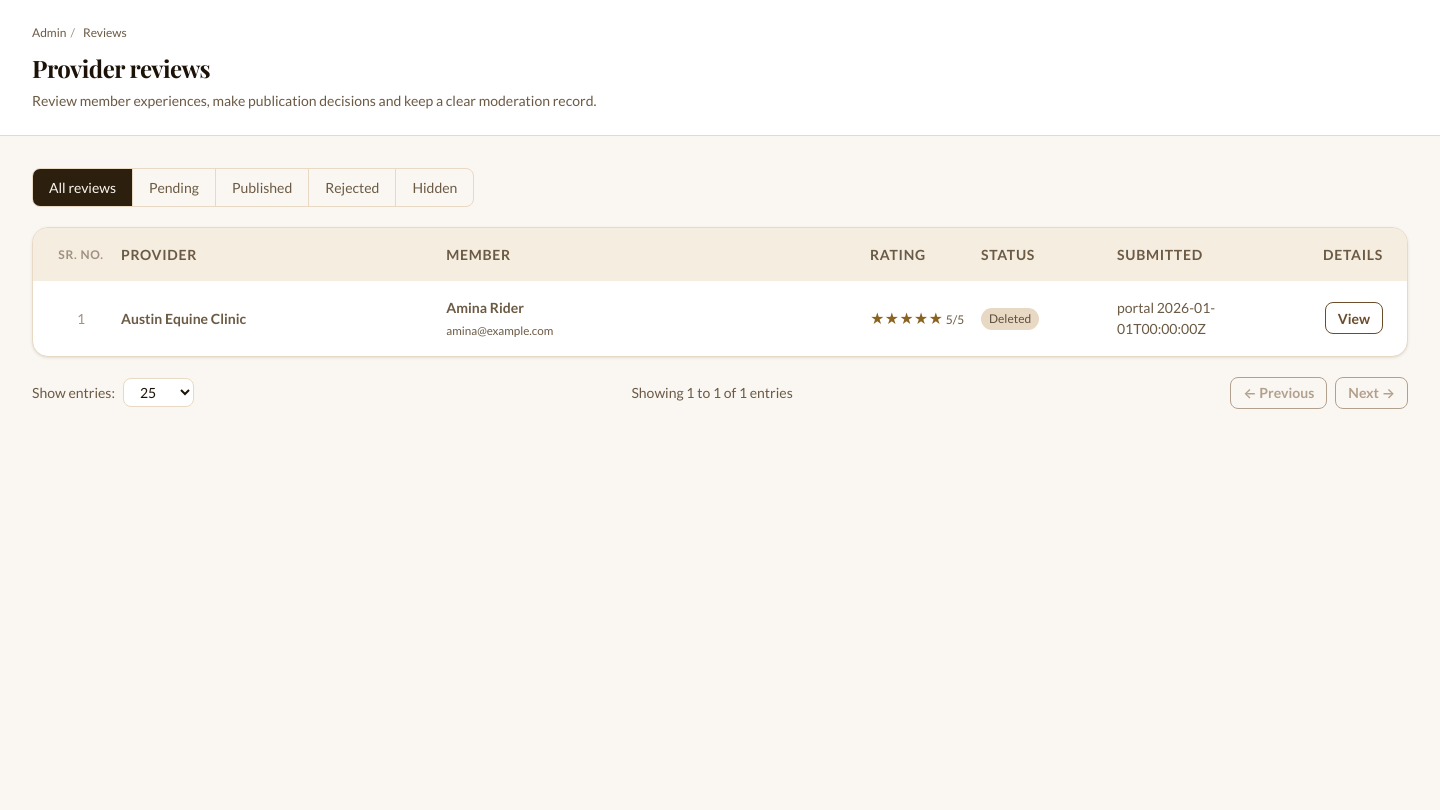
Scenario: ReviewsPage › shows retained deleted records without offering moderation actions
Expected: the text "Deleted" is shown, [981,308,1039,330]
Click the button "View" at (1354, 318), box [1325,302,1383,334]
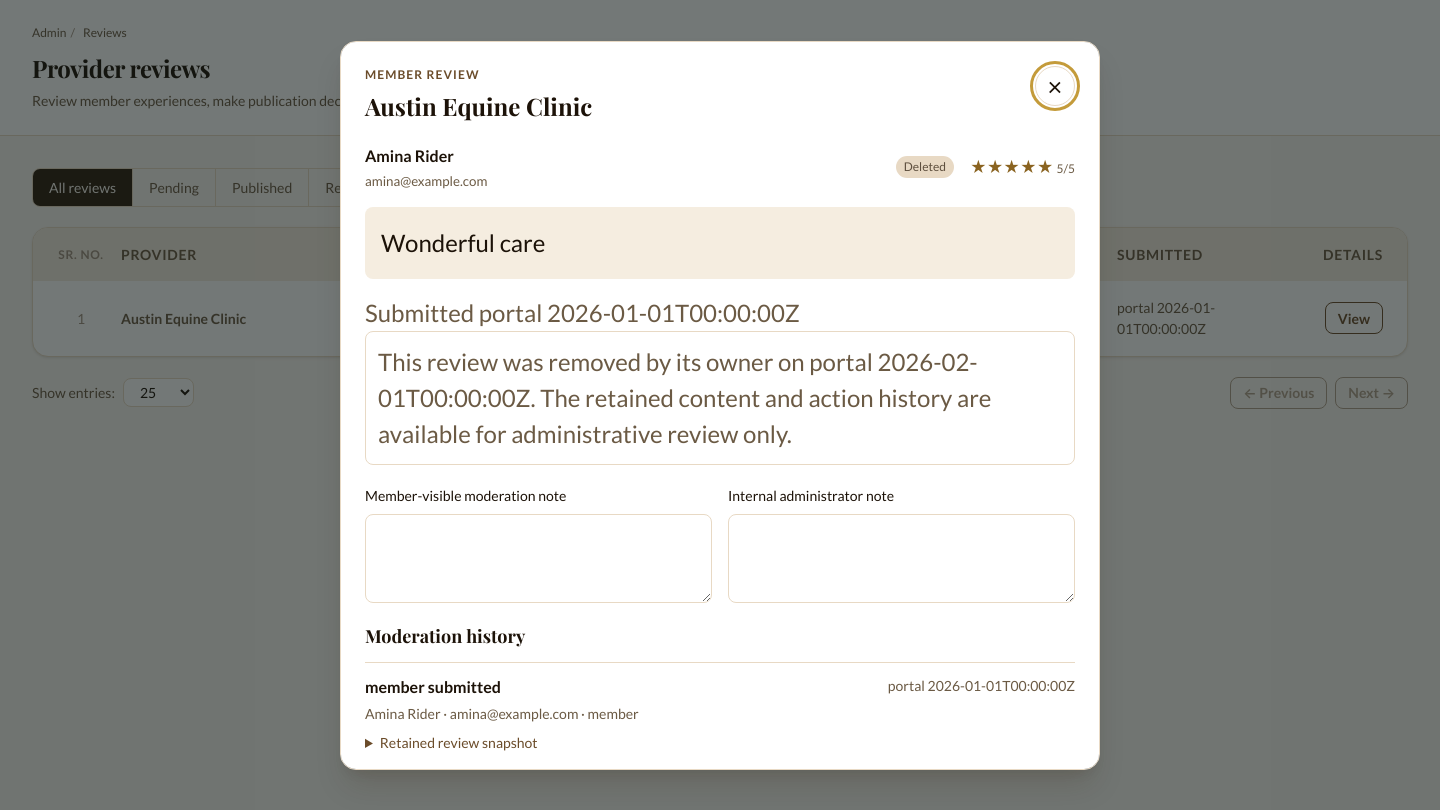
Result: the text "retained content and action history" is shown at [378,383,991,448]
